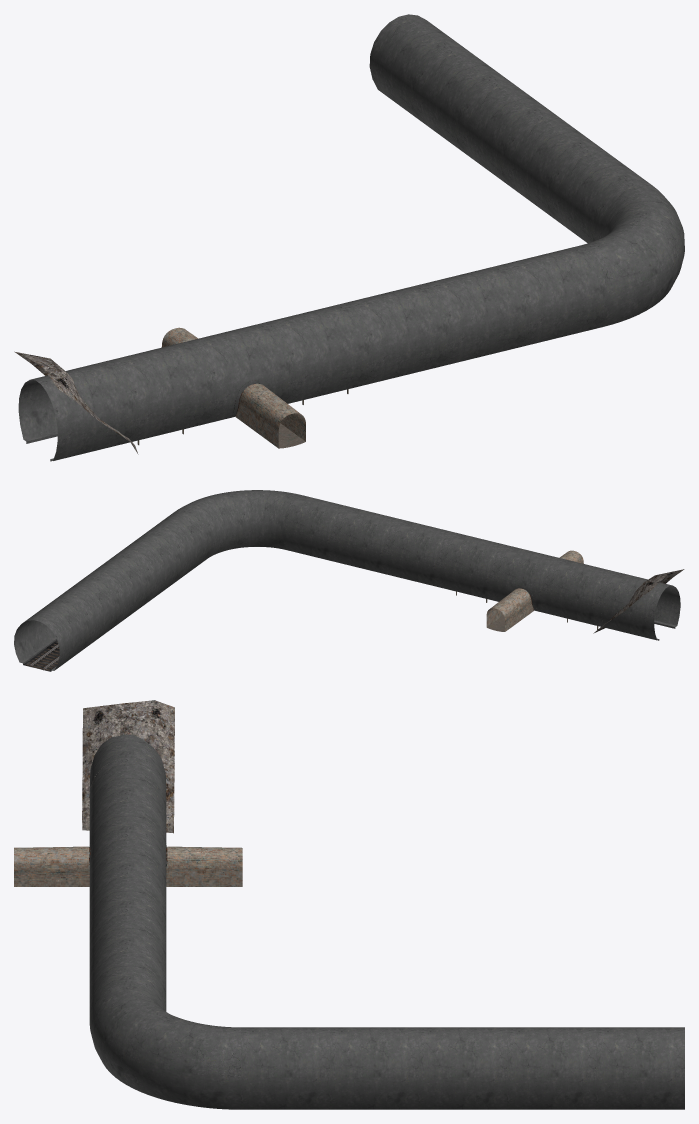
File: Tunnels.fbx
3 views of the same model, one above another, from view 1: azimuth 30°, elevation 25°; view 2: azimuth 150°, elevation 25°; view 3: azimuth 270°, elevation 25° (orthographic). The views are drawn at different scales.
Parts seen in each view (by area): view 1: Combined_Mesh_(root:_scene)_25_47, Combined_Mesh_(root:_scene)_25_6, Combined_Mesh_(root:_scene)_25_24, Combined_Mesh_(root:_scene)_25_38, Combined_Mesh_(root:_scene)_25_0, Combined_Mesh_(root:_scene)_25_26, Combined_Mesh_(root:_scene)_25_30, Combined_Mesh_(root:_scene)_25_53, Combined_Mesh_(root:_scene)_25_4, Combined_Mesh_(root:_scene)_25_40, Combined_Mesh_(root:_scene)_25_14, Combined_Mesh_(root:_scene)_25_28 (+3 smaller); view 2: Combined_Mesh_(root:_scene)_25_47, Combined_Mesh_(root:_scene)_25_6, Combined_Mesh_(root:_scene)_25_40, Combined_Mesh_(root:_scene)_25_24, Combined_Mesh_(root:_scene)_25_26, Combined_Mesh_(root:_scene)_25_30, Combined_Mesh_(root:_scene)_25_38, Combined_Mesh_(root:_scene)_25_0, Combined_Mesh_(root:_scene)_25_53, Combined_Mesh_(root:_scene)_25_14, Combined_Mesh_(root:_scene)_25_28, Combined_Mesh_(root:_scene)_25_8 (+5 smaller); view 3: Combined_Mesh_(root:_scene)_25_47, Combined_Mesh_(root:_scene)_25_14, Combined_Mesh_(root:_scene)_25_28, Combined_Mesh_(root:_scene)_25_4, Combined_Mesh_(root:_scene)_25_8, Combined_Mesh_(root:_scene)_25_40, Trash, Combined_Mesh_(root:_scene)_21_7, Combined_Mesh_(root:_scene)_21_13, Combined_Mesh_(root:_scene)_25_30, Combined_Mesh_(root:_scene)_25_0, Combined_Mesh_(root:_scene)_25_24 (+4 smaller).
Boxes of the visible parts, x1=… form: Combined_Mesh_(root:_scene)_25_47: x1=580, y1=180, x2=684, y2=326; Combined_Mesh_(root:_scene)_25_6: x1=18, y1=360, x2=136, y2=461; Combined_Mesh_(root:_scene)_25_24: x1=345, y1=284, x2=450, y2=384; Combined_Mesh_(root:_scene)_25_38: x1=266, y1=303, x2=371, y2=403; Combined_Mesh_(root:_scene)_25_0: x1=109, y1=341, x2=214, y2=441; Combined_Mesh_(root:_scene)_25_26: x1=502, y1=245, x2=607, y2=345; Combined_Mesh_(root:_scene)_25_30: x1=423, y1=264, x2=528, y2=365; Combined_Mesh_(root:_scene)_25_53: x1=187, y1=322, x2=293, y2=422; Combined_Mesh_(root:_scene)_25_4: x1=505, y1=114, x2=606, y2=221; Combined_Mesh_(root:_scene)_25_40: x1=369, y1=14, x2=470, y2=122; Combined_Mesh_(root:_scene)_25_14: x1=415, y1=47, x2=515, y2=155; Combined_Mesh_(root:_scene)_25_28: x1=460, y1=80, x2=560, y2=188; Combined_Mesh_(root:_scene)_25_47: x1=176, y1=490, x2=300, y2=558; Combined_Mesh_(root:_scene)_25_6: x1=601, y1=572, x2=680, y2=640; Combined_Mesh_(root:_scene)_25_40: x1=14, y1=597, x2=90, y2=671; Combined_Mesh_(root:_scene)_25_24: x1=389, y1=521, x2=460, y2=588; Combined_Mesh_(root:_scene)_25_26: x1=283, y1=495, x2=353, y2=562; Combined_Mesh_(root:_scene)_25_30: x1=336, y1=508, x2=406, y2=575; Combined_Mesh_(root:_scene)_25_38: x1=442, y1=534, x2=513, y2=601; Combined_Mesh_(root:_scene)_25_0: x1=548, y1=559, x2=618, y2=627; Combined_Mesh_(root:_scene)_25_53: x1=495, y1=547, x2=565, y2=614; Combined_Mesh_(root:_scene)_25_14: x1=45, y1=575, x2=120, y2=647; Combined_Mesh_(root:_scene)_25_28: x1=83, y1=553, x2=151, y2=625; Combined_Mesh_(root:_scene)_25_8: x1=145, y1=508, x2=212, y2=580; Combined_Mesh_(root:_scene)_25_47: x1=89, y1=983, x2=240, y2=1109; Combined_Mesh_(root:_scene)_25_14: x1=507, y1=1027, x2=596, y2=1109; Combined_Mesh_(root:_scene)_25_28: x1=418, y1=1027, x2=507, y2=1109; Combined_Mesh_(root:_scene)_25_4: x1=330, y1=1027, x2=418, y2=1109; Combined_Mesh_(root:_scene)_25_8: x1=241, y1=1027, x2=329, y2=1109; Combined_Mesh_(root:_scene)_25_40: x1=596, y1=1027, x2=684, y2=1109; Trash: x1=82, y1=700, x2=174, y2=833; Combined_Mesh_(root:_scene)_21_7: x1=166, y1=846, x2=242, y2=886; Combined_Mesh_(root:_scene)_21_13: x1=14, y1=846, x2=89, y2=886; Combined_Mesh_(root:_scene)_25_30: x1=89, y1=908, x2=166, y2=987; Combined_Mesh_(root:_scene)_25_0: x1=89, y1=758, x2=166, y2=837; Combined_Mesh_(root:_scene)_25_24: x1=89, y1=870, x2=166, y2=949.
Size of the model in its own units: 109 by 14.25 by 94.49.
